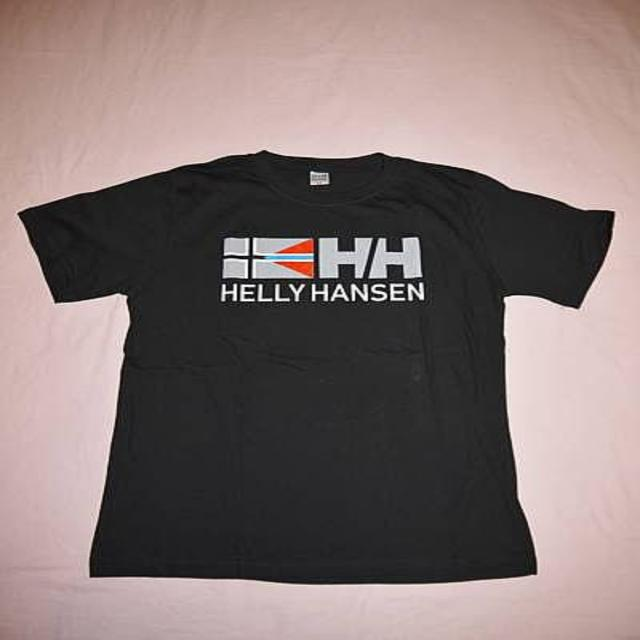T_SHIRT: (9, 138, 624, 586)
